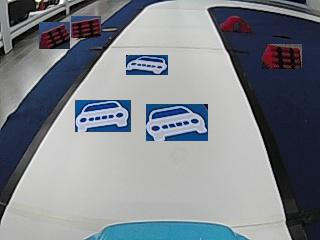bridge: (221, 15, 251, 32)
